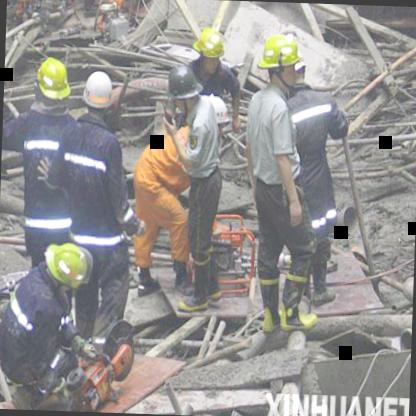helmet: (40, 244, 92, 292), (257, 32, 301, 86), (35, 58, 74, 109), (165, 65, 204, 110), (192, 26, 225, 74), (82, 72, 114, 116)
